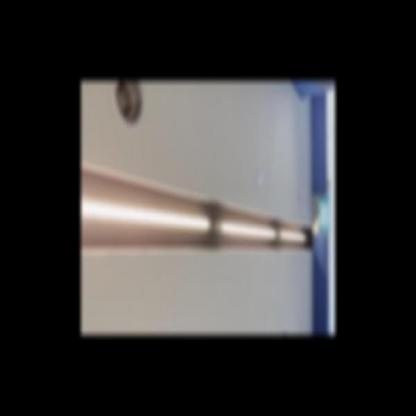light_on: (81, 191, 211, 232), (215, 218, 277, 243), (278, 222, 307, 243)
